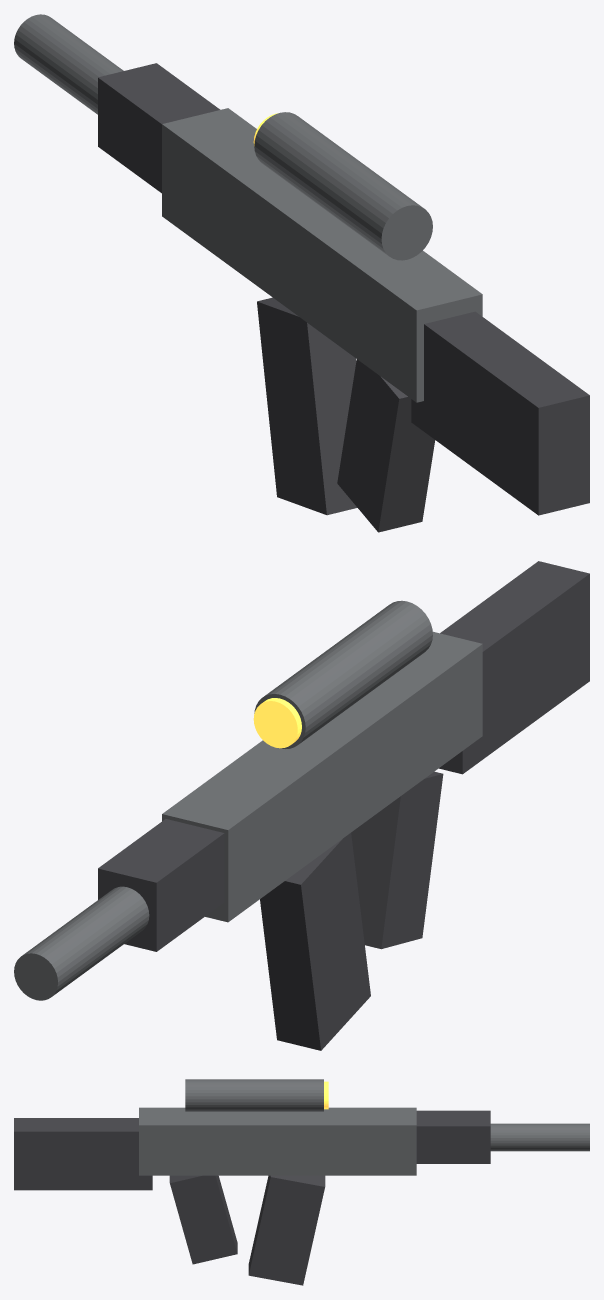
File: rifle.glb
The picture shows the model from 3 angles, top to bottom: view 1: azimuth 30°, elevation 25°; view 2: azimuth 150°, elevation 25°; view 3: azimuth 270°, elevation 25°; orthographic projection. The views are drawn at different scales.
Parts seen in each view (by area): view 1: Rifle_Body, Rifle_Stock, Rifle_Mag, Rifle_Scope, Rifle_Grip, Cube, Rifle_Barrel; view 2: Rifle_Body, Rifle_Stock, Rifle_Mag, Rifle_Grip, Cube, Rifle_Scope, Rifle_Barrel, Cylinder; view 3: Rifle_Body, Rifle_Stock, Rifle_Mag, Rifle_Scope, Rifle_Grip, Cube, Rifle_Barrel.
Part boxes in pixels (<box>): Rifle_Body: <box>162,108,482,402</box>; Rifle_Stock: <box>411,311,589,515</box>; Rifle_Mag: <box>257,297,357,515</box>; Rifle_Scope: <box>254,112,432,260</box>; Rifle_Grip: <box>337,359,435,532</box>; Cube: <box>98,63,220,193</box>; Rifle_Barrel: <box>14,14,123,114</box>; Rifle_Body: <box>162,631,482,922</box>; Rifle_Stock: <box>439,561,589,774</box>; Rifle_Mag: <box>260,833,370,1050</box>; Rifle_Grip: <box>351,771,443,949</box>; Cube: <box>98,819,224,951</box>; Rifle_Scope: <box>254,600,432,748</box>; Rifle_Barrel: <box>14,886,149,1000</box>; Cylinder: <box>253,698,301,748</box>; Rifle_Body: <box>139,1107,416,1175</box>; Rifle_Stock: <box>14,1118,152,1190</box>; Rifle_Mag: <box>248,1175,325,1285</box>; Rifle_Scope: <box>185,1079,323,1111</box>; Rifle_Grip: <box>169,1175,237,1264</box>; Cube: <box>416,1110,490,1163</box>; Rifle_Barrel: <box>490,1123,589,1151</box>.
Bounding box in the file's own units: 0.09 × 0.4745 × 1.25.
